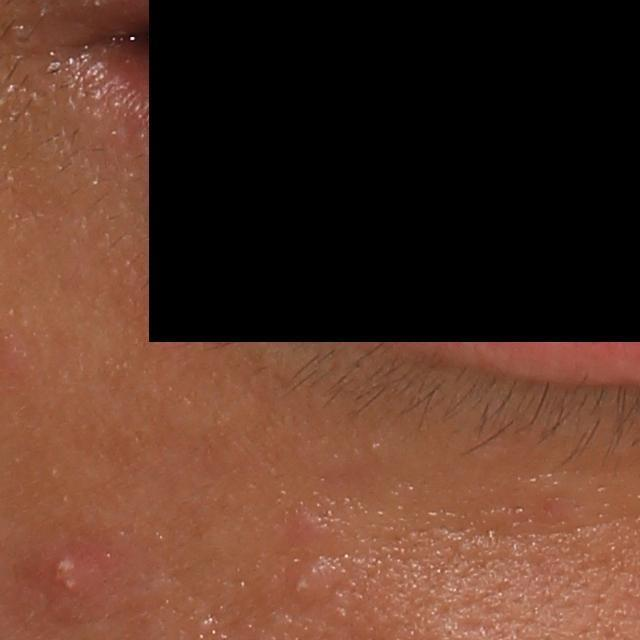papule: (284, 503, 329, 549)
